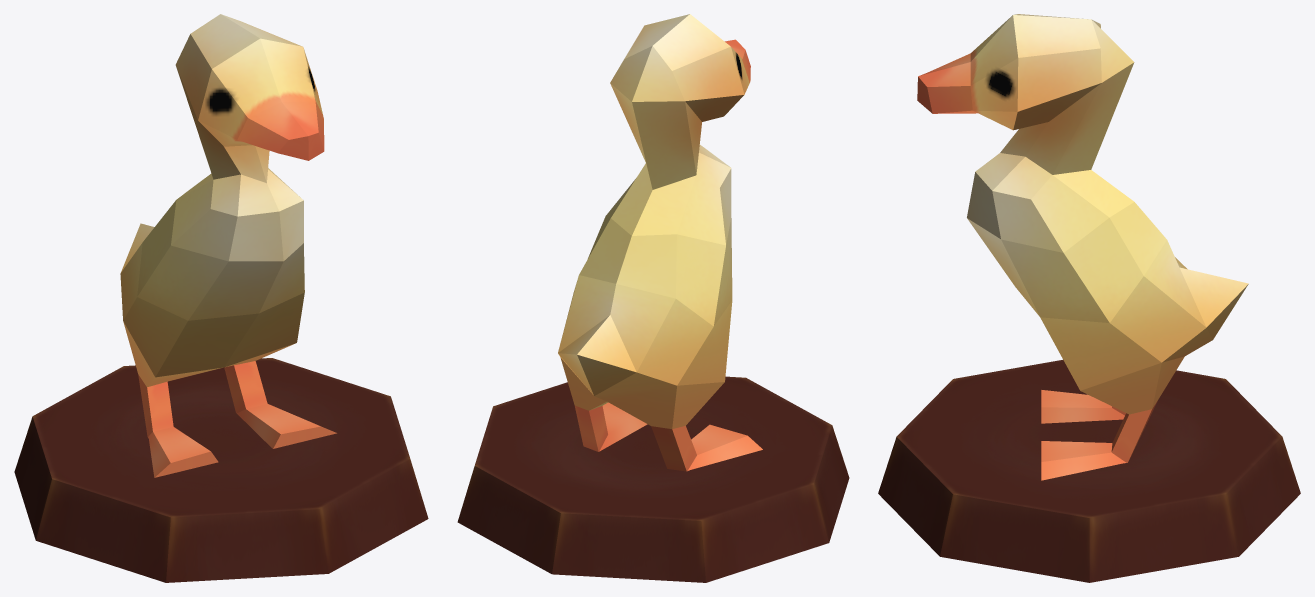
The model's file is Asset_Prey_BabyDuck.fbx.
3 views of the same model, side by side, from view 1: azimuth 30°, elevation 25°; view 2: azimuth 150°, elevation 25°; view 3: azimuth 270°, elevation 25° (orthographic). The views are drawn at different scales.
Visible parts, largest first — view 1: BabyDuck_Stand, BabyDuck_body; view 2: BabyDuck_body, BabyDuck_Stand; view 3: BabyDuck_body, BabyDuck_Stand.
Boxes of the visible parts, <box> form: BabyDuck_Stand: <box>14,358,428,582</box>; BabyDuck_body: <box>120,14,336,477</box>; BabyDuck_body: <box>558,14,762,471</box>; BabyDuck_Stand: <box>457,376,849,582</box>; BabyDuck_body: <box>917,14,1248,480</box>; BabyDuck_Stand: <box>878,360,1300,582</box>.
Bounding box in the file's own units: 17.44 × 21.78 × 17.44.
